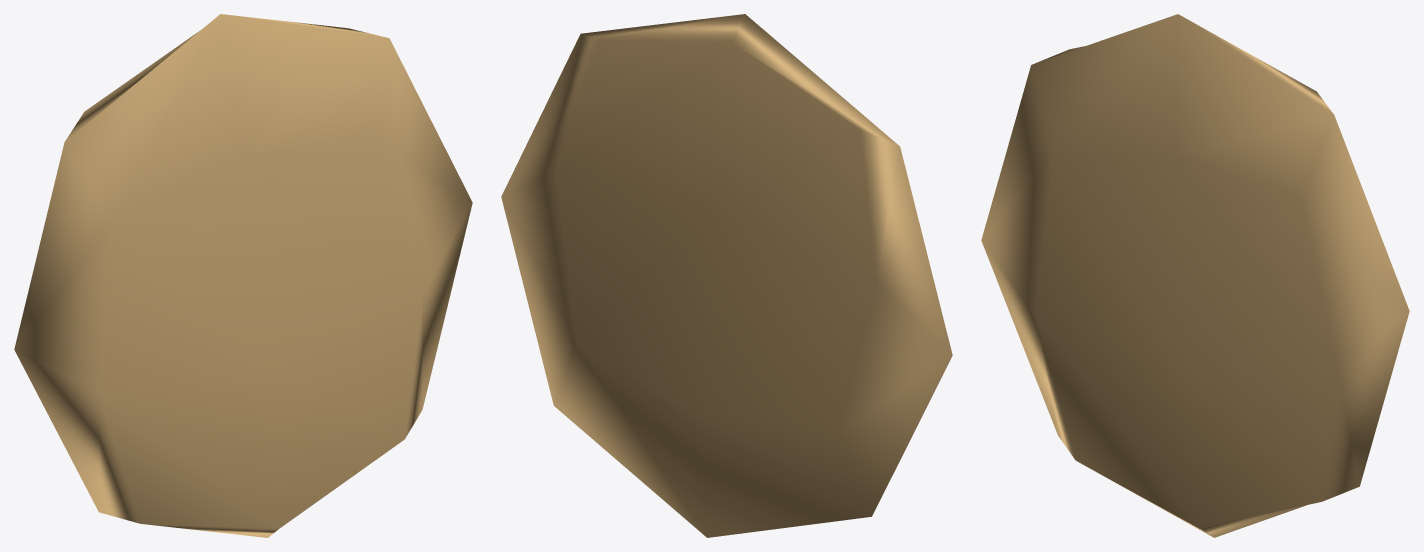
The model's file is claw_T1_right_lower.obj.
3 renders of one model, left to right at view 1: azimuth 30°, elevation 25°; view 2: azimuth 150°, elevation 25°; view 3: azimuth 330°, elevation 25°, orthographic. The views are drawn at different scales.
Bounding box in the file's own units: 0.00319 × 0.00358 × 0.00046.
